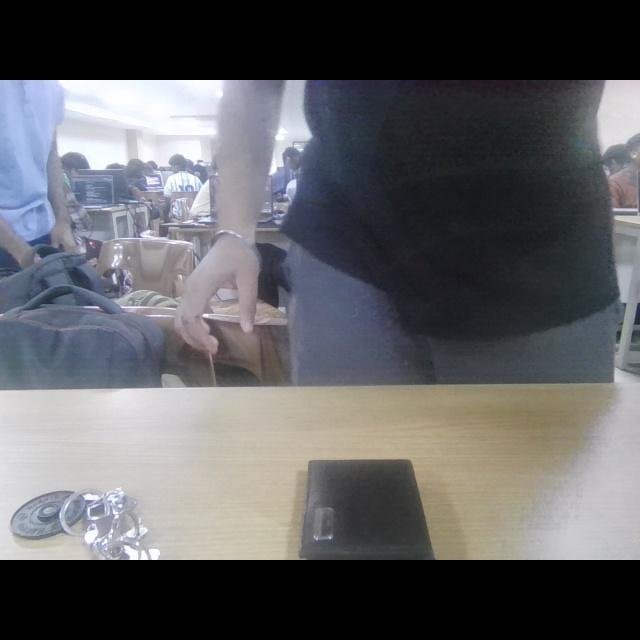keys: (6, 462, 178, 560)
wallet: (284, 432, 448, 560)
